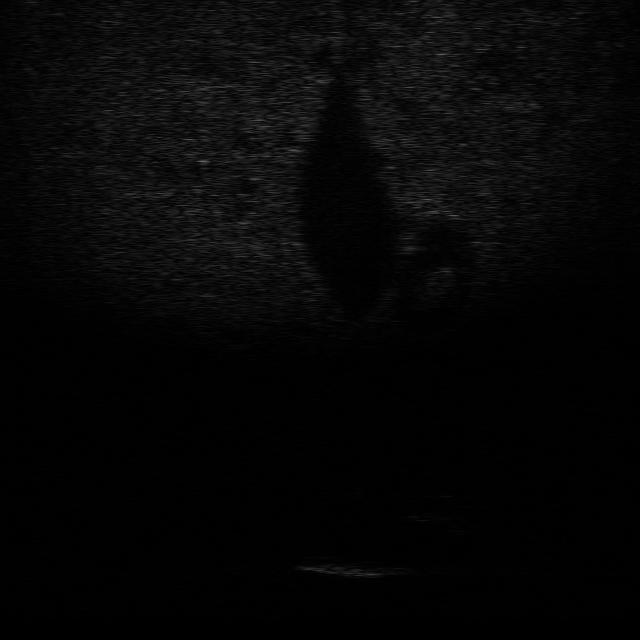ball: (319, 456, 370, 486)
metal bucket: (295, 549, 411, 583)
tyre: (398, 489, 478, 525)
